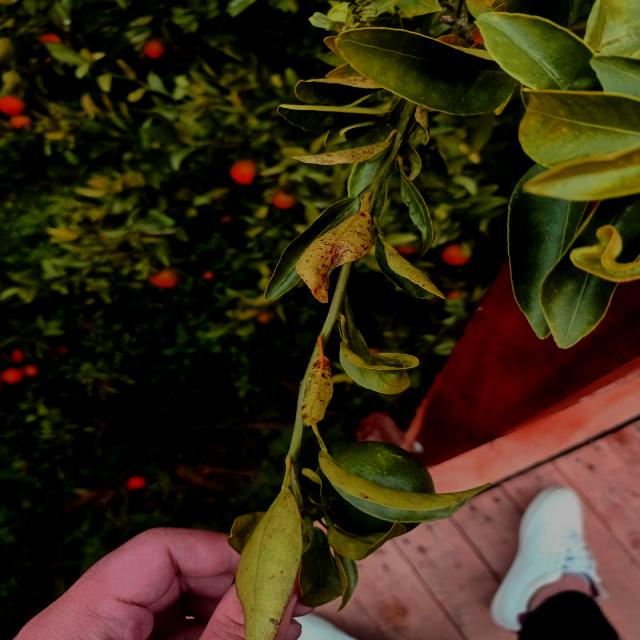melanose: (297, 205, 390, 291), (286, 340, 347, 432)
